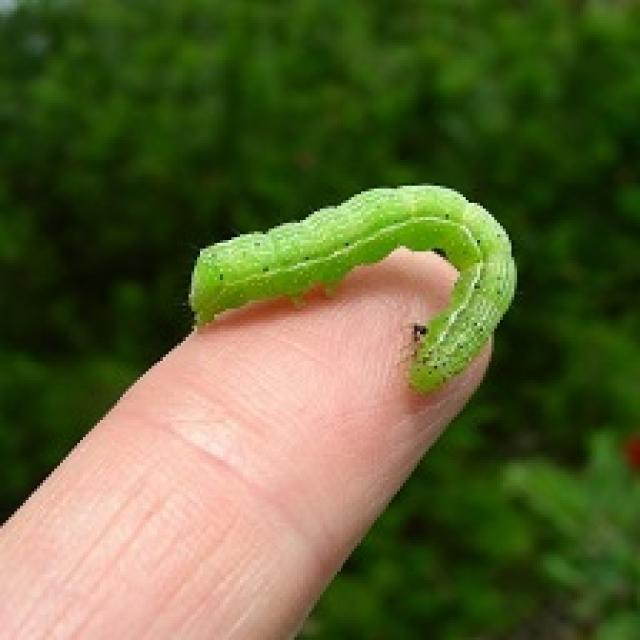Cabbage-worm: (194, 183, 526, 411)
